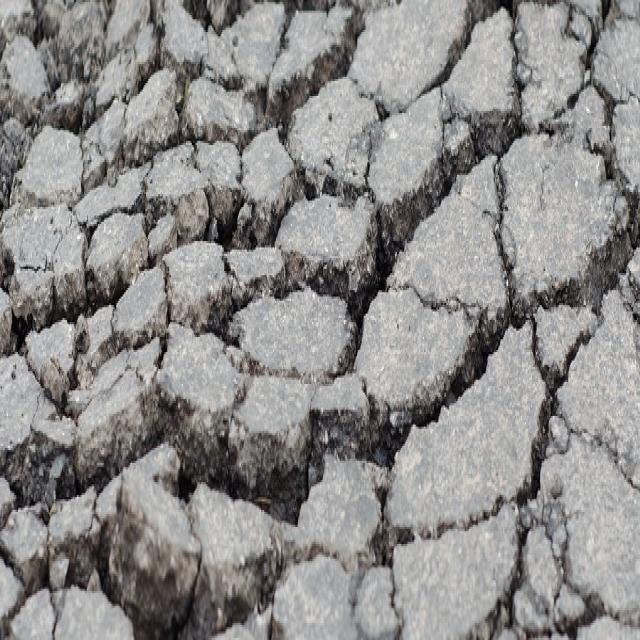Drain Hole: (2, 12, 556, 591)
